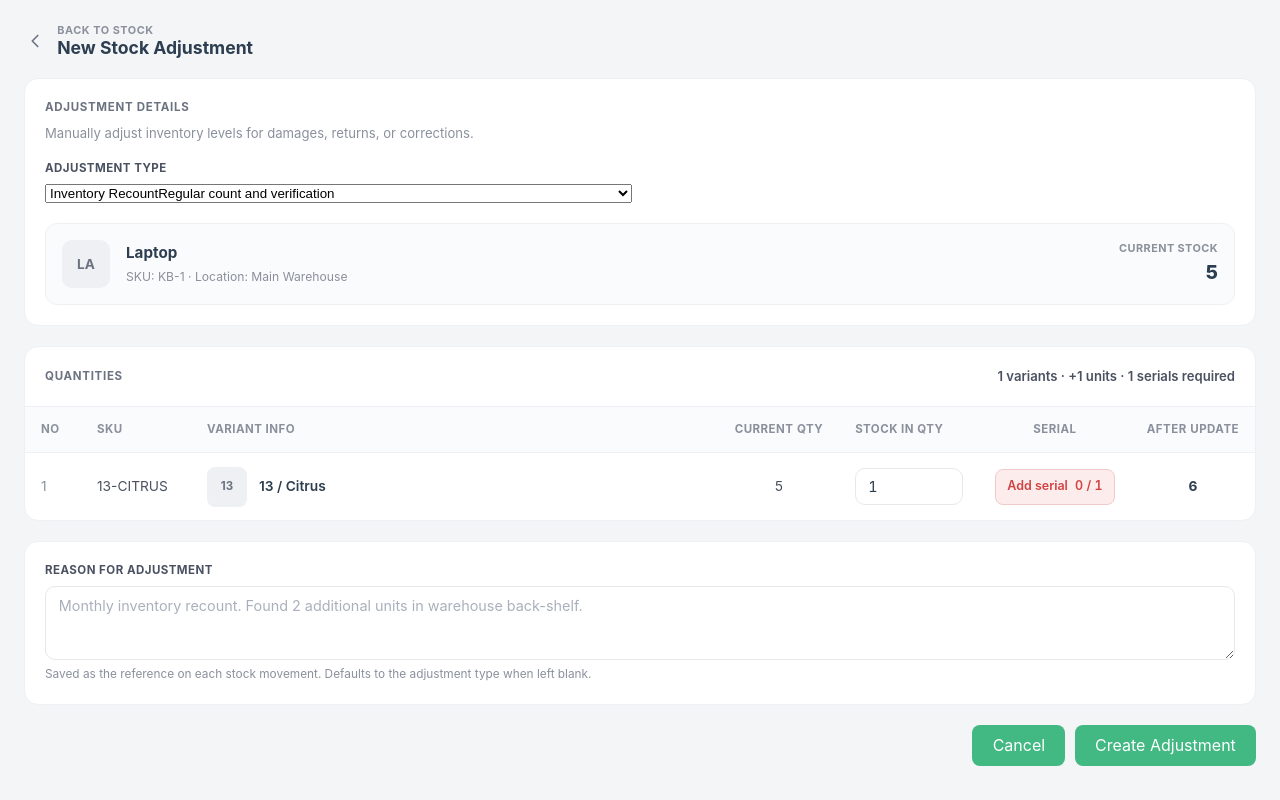
it: StockAdjustmentFormView variant serials › asks for one serial per unit coming in, not one per unit in stock
Expected: the text with class "serial-trigger__count" reads "0 / 1", [1075,478,1103,493]
Expected: the text with class "serial-trigger__label" reads "Add serial", [1007,478,1068,493]
What coordinates should you click on to do the following:
click the button with class "serial-trigger"
I would click on:
 (1055, 486)
Its box is [995,468,1115,504].
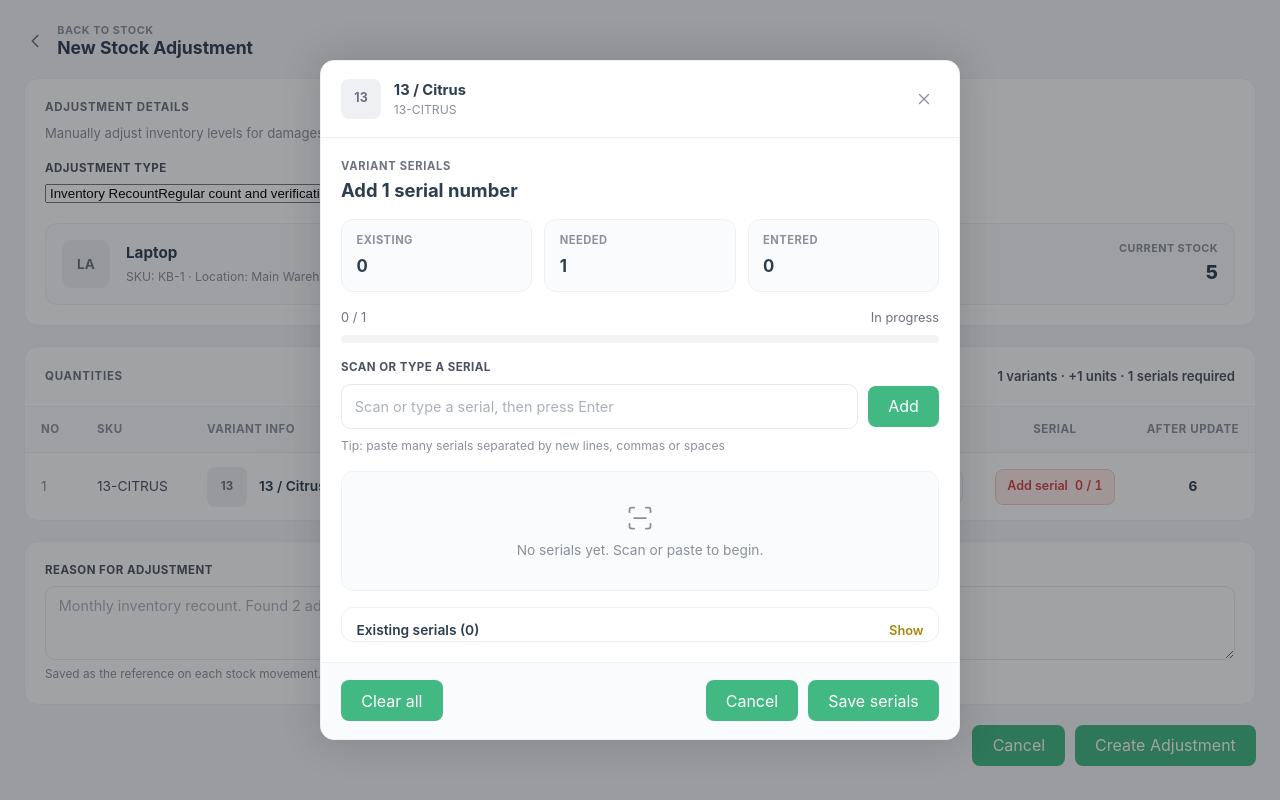
Now the heading with id "serial-modal-title" reads "Add 1 serial number", box [341,179,518,201]
Now the field with id "serial-modal-input" is enabled, box [341,384,858,429]
